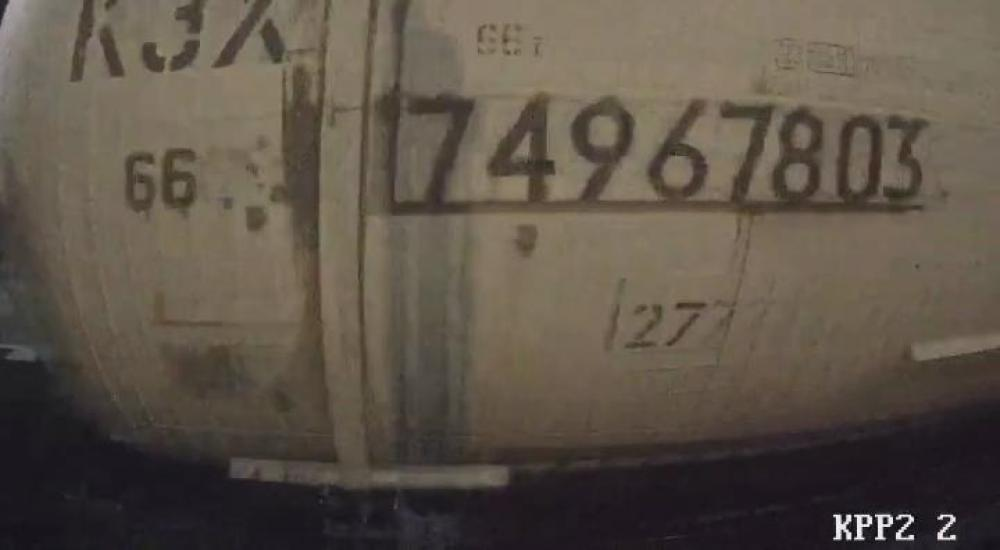Wagon-number: (402, 87, 931, 210)
